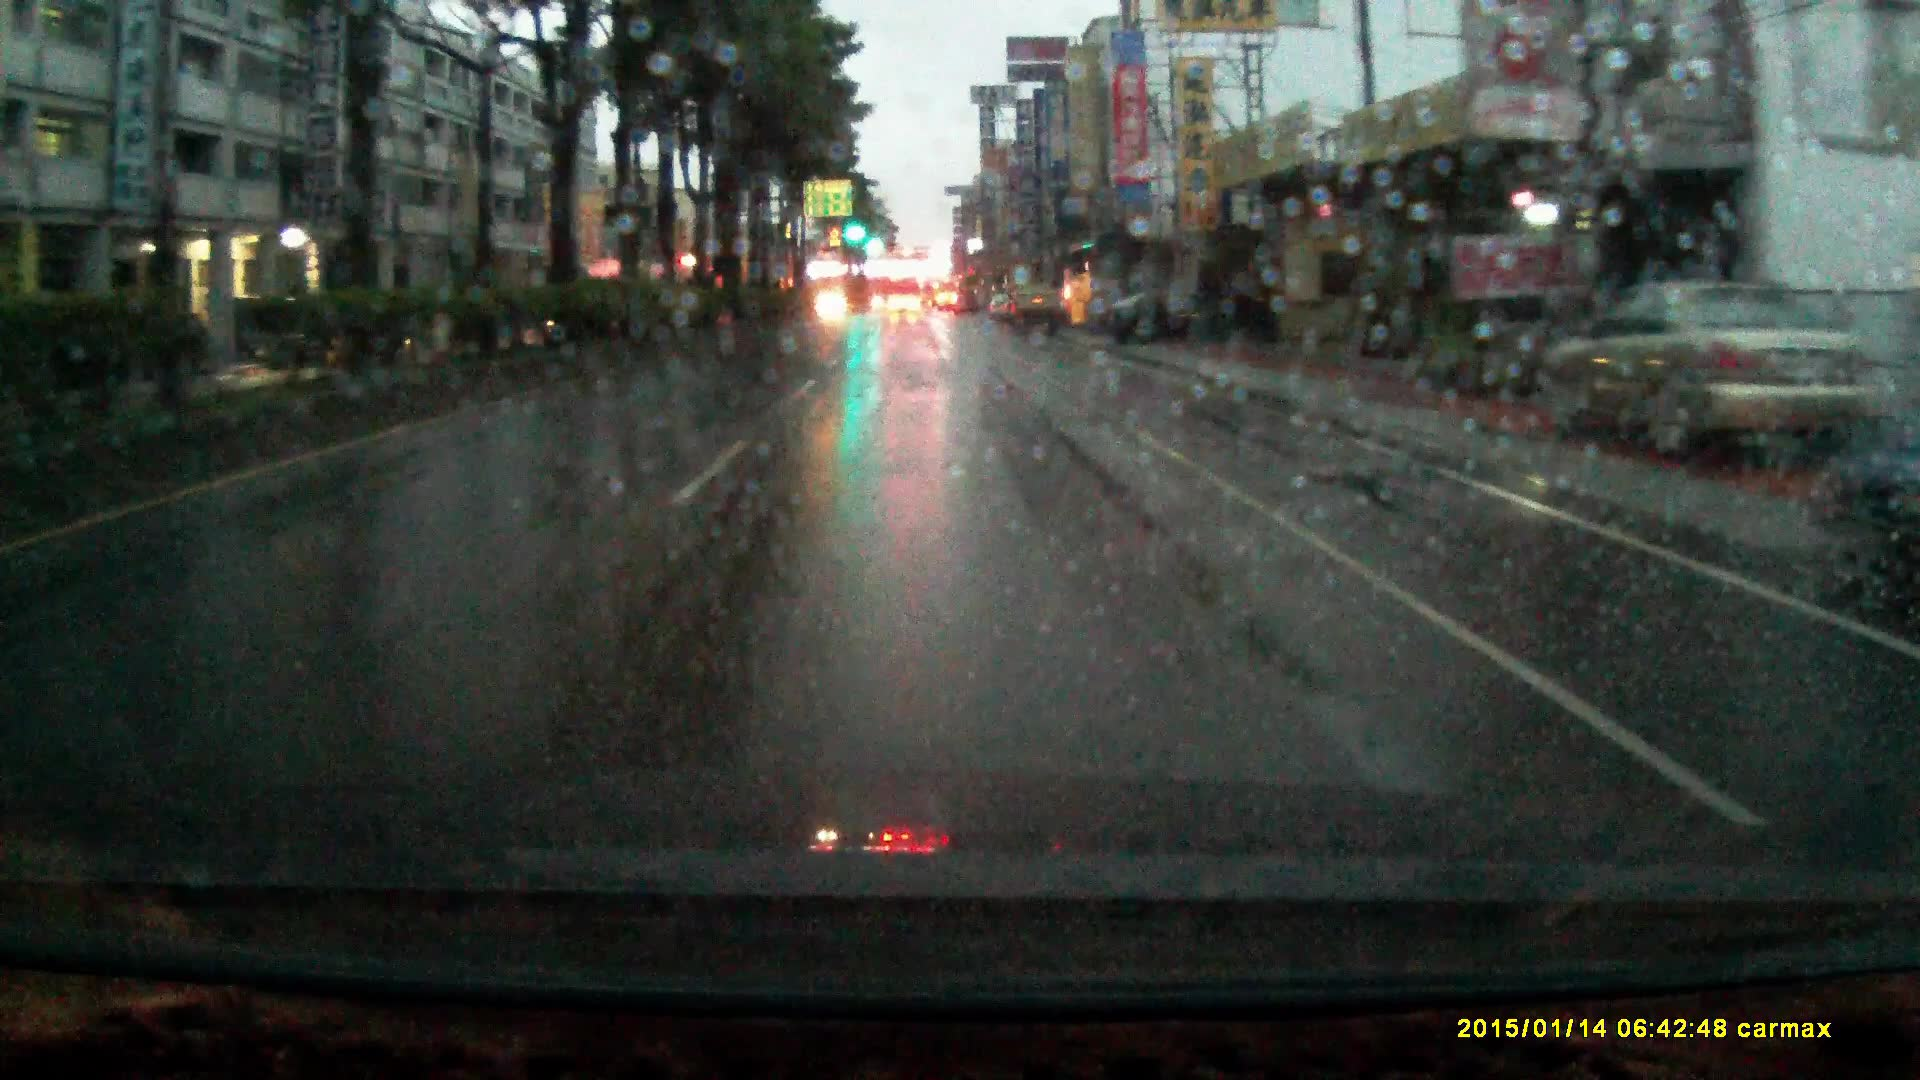vehicle: (1572, 277, 1873, 468), (1089, 280, 1273, 339), (1007, 278, 1060, 332), (886, 290, 922, 313)
